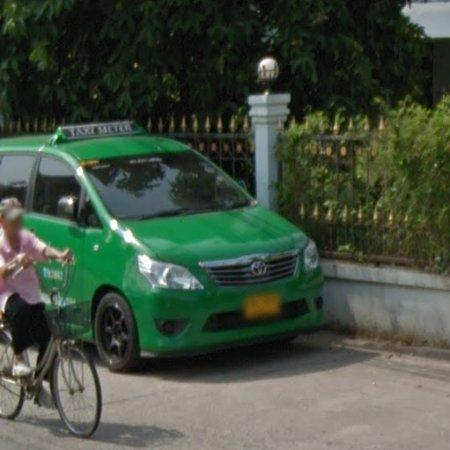bicycles: (0, 257, 102, 438)
